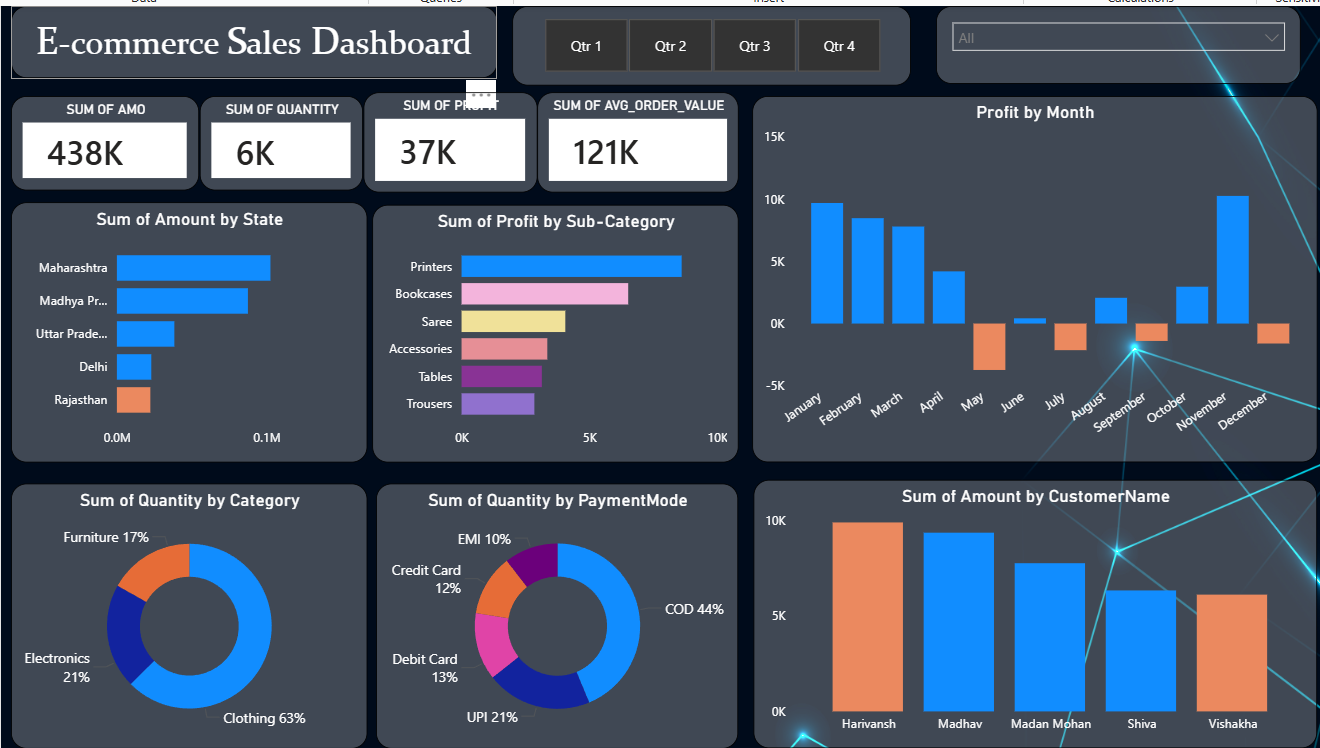

This screenshot's page, from the dashboard's own definition file:
{"tool":"powerbi","page":{"name":"report","canvas":[1280,720],"ordinal":0},"visuals":[{"type":"textbox","box":[10,0,469.3,69.7],"z":0},{"type":"columnChart","title":" Profit by Month","fields":{"Category":["Orders.Order Date.Variation.Date Hierarchy.Month"],"Y":["Sum(Details.Profit)"]},"box":[725.1,86.9,545.3,353.5],"z":1000},{"type":"barChart","fields":{"Category":["Details.Sub-Category"],"Y":["Sum(Details.Profit)"]},"box":[358.1,191.8,353.8,248.7],"z":2000},{"type":"donutChart","fields":{"Category":["Details.Category"],"Y":["Sum(Details.Quantity)"]},"box":[9.7,460.9,343.8,255.8],"z":3000},{"type":"donutChart","fields":{"Category":["Details.PaymentMode"],"Y":["Sum(Details.Quantity)"]},"box":[361.9,460.9,349.9,255.8],"z":4000},{"type":"cardVisual","title":"SUM OF AMO","fields":{"Data":["Sum(Details.Amount)"]},"box":[9.9,86.7,181.9,90.9],"z":5000},{"type":"cardVisual","title":"SUM OF QUANTITY","fields":{"Data":["Sum(Details.Quantity)"]},"box":[191.8,86.7,157.7,90.9],"z":6000},{"type":"cardVisual","title":"SUM OF PROFIT","fields":{"Data":["Sum(Details.Profit)"]},"box":[349.6,83.8,167.7,96.6],"z":7000},{"type":"cardVisual","title":"SUM OF AVG_ORDER_VALUE","fields":{"Data":["Sum(Details.AOV)"]},"box":[517.2,83.8,194.7,96.6],"z":8000},{"type":"barChart","fields":{"Category":["Orders.State"],"Y":["Sum(Details.Amount)"]},"box":[9.9,189,343.9,251.5],"z":9000},{"type":"columnChart","fields":{"Category":["Orders.CustomerName"],"Y":["Sum(Details.Amount)"]},"box":[726.3,457.2,544.1,259.4],"z":10000},{"type":"slicer","fields":{"Values":["Orders.Order Date.Variation.Date Hierarchy.Quarter"]},"box":[493.1,0,385.1,76.7],"z":11000},{"type":"slicer","fields":{"Values":["Orders.State"]},"box":[902.3,0,352.4,75.3],"z":12000}]}

Visuals, with their boxes in screenshot pixels (x1, y1, x2, y2):
textbox: x1=0, y1=0, x2=495, y2=73
" Profit by Month" columnChart: x1=754, y1=92, x2=1319, y2=464
barChart - Details.Sub-Category x Sum(Details.Profit): x1=367, y1=202, x2=740, y2=464
donutChart - Details.Category x Sum(Details.Quantity): x1=0, y1=486, x2=362, y2=747
donutChart - Details.PaymentMode x Sum(Details.Quantity): x1=371, y1=486, x2=740, y2=747
"SUM OF AMO" cardVisual: x1=0, y1=91, x2=192, y2=187
"SUM OF QUANTITY" cardVisual: x1=192, y1=91, x2=358, y2=187
"SUM OF PROFIT" cardVisual: x1=358, y1=88, x2=535, y2=190
"SUM OF AVG_ORDER_VALUE" cardVisual: x1=535, y1=88, x2=740, y2=190
barChart - Orders.State x Sum(Details.Amount): x1=0, y1=199, x2=363, y2=464
columnChart - Orders.CustomerName x Sum(Details.Amount): x1=755, y1=482, x2=1319, y2=747
slicer - Orders.Order Date.Variation.Date Hierarchy.Quarter: x1=510, y1=0, x2=916, y2=81
slicer - Orders.State: x1=941, y1=0, x2=1313, y2=79
